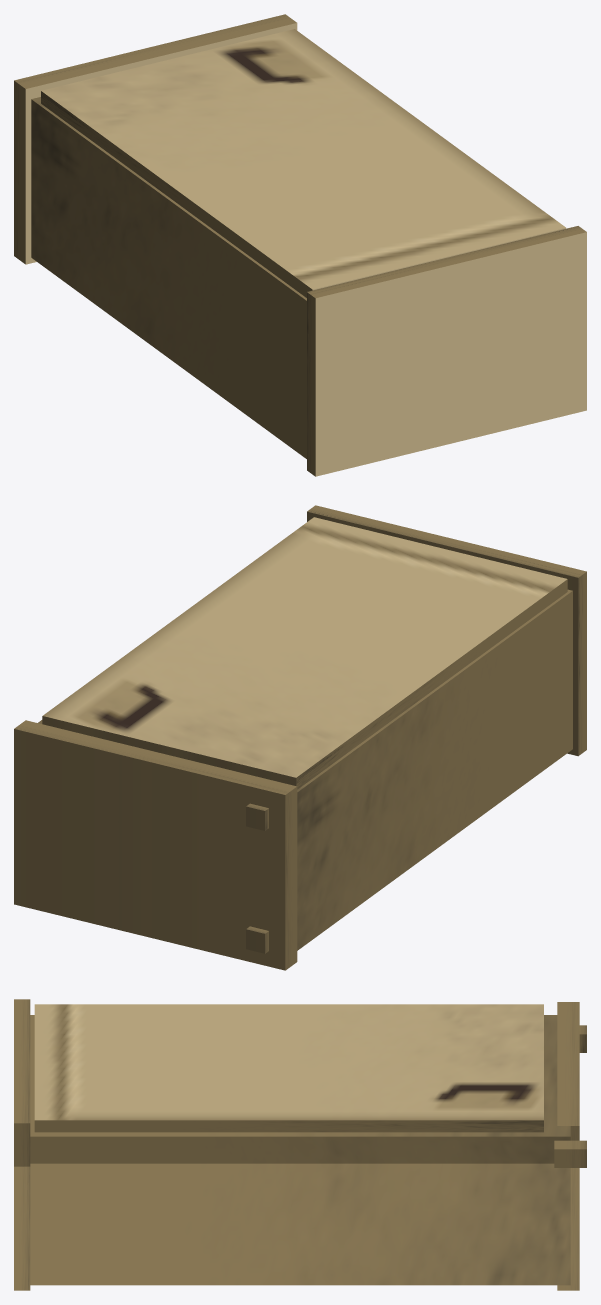
File: pz_wardrobe_storage_02_white_0_0.obj
3 renders of one model, top to bottom at view 1: azimuth 30°, elevation 25°; view 2: azimuth 150°, elevation 25°; view 3: azimuth 270°, elevation 25°, orthographic. The views are drawn at different scales.
Size of the model in its own units: 0.995 by 0.625 by 1.94.
1 material, 1 textured.
